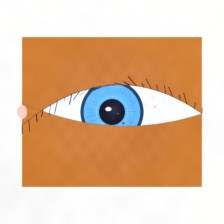pinguecula_lesion: (32, 94, 62, 117)
